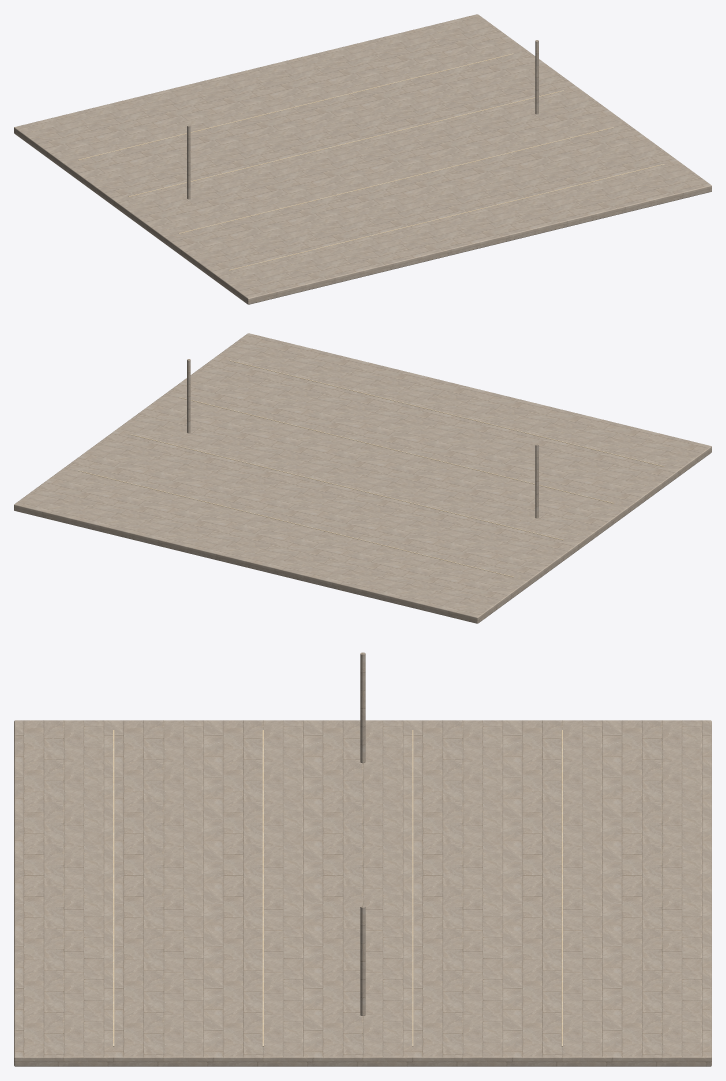
File: explore3d__outside_threshold.glb
3 renders of one model, top to bottom at view 1: azimuth 30°, elevation 25°; view 2: azimuth 150°, elevation 25°; view 3: azimuth 270°, elevation 25°, orthographic. The views are drawn at different scales.
Visible parts, largest first — view 1: Runtime_local_outside_threshold; view 2: Runtime_local_outside_threshold; view 3: Runtime_local_outside_threshold.
Boxes of the visible parts, x1,y1,x2,y2 form: Runtime_local_outside_threshold: [14, 14, 711, 304]; Runtime_local_outside_threshold: [14, 333, 711, 623]; Runtime_local_outside_threshold: [14, 652, 711, 1066].
Size of the model in its own units: 16 by 2.62 by 14.
3 materials, 3 textured.
